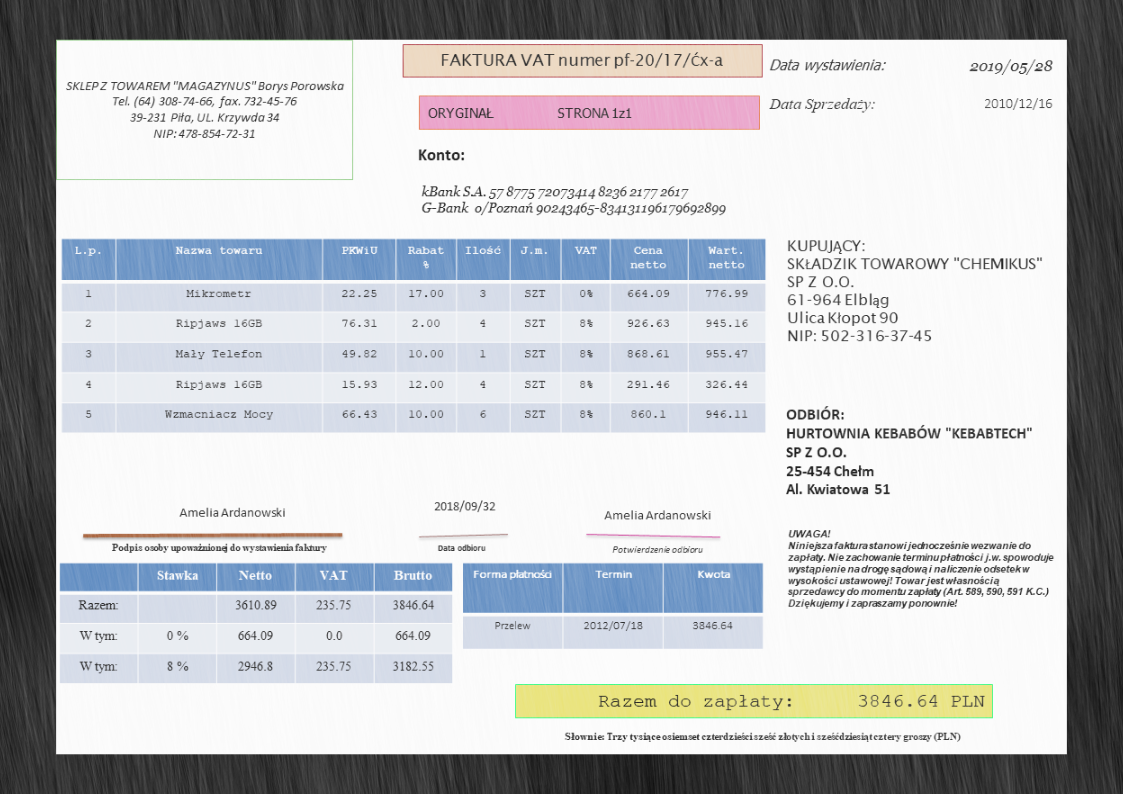Table: (59, 237, 767, 434), (58, 561, 452, 684), (461, 562, 764, 650)
TextBox: (783, 236, 1045, 345), (784, 404, 1035, 498), (785, 527, 1056, 609), (64, 78, 346, 140), (419, 183, 729, 218), (596, 692, 986, 712), (563, 729, 962, 744), (439, 50, 726, 70), (427, 105, 634, 122), (109, 540, 327, 554), (768, 54, 887, 76), (767, 96, 877, 114), (967, 57, 1054, 77), (178, 505, 287, 520), (602, 509, 712, 521), (610, 543, 705, 555), (982, 96, 1053, 111), (432, 499, 496, 514), (416, 146, 465, 164), (435, 542, 485, 554)
